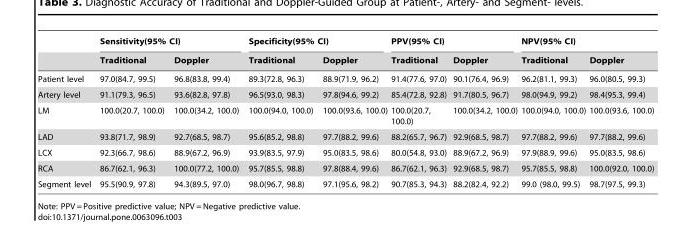table: (37, 36, 653, 188)
table column: (242, 36, 317, 188), (94, 36, 168, 188), (168, 36, 242, 188), (317, 36, 388, 188), (449, 36, 518, 188), (518, 36, 586, 188), (586, 36, 653, 188), (388, 36, 449, 188), (37, 36, 94, 188)
table column header: (37, 36, 653, 69)
table row: (37, 102, 653, 128), (37, 50, 653, 69), (37, 69, 653, 86), (37, 86, 653, 102), (37, 128, 653, 144), (37, 144, 653, 160), (37, 160, 653, 176), (37, 36, 653, 50), (37, 176, 653, 188)
table spanning cell: (94, 36, 242, 50), (242, 36, 388, 50), (518, 36, 653, 50), (388, 36, 518, 50)
